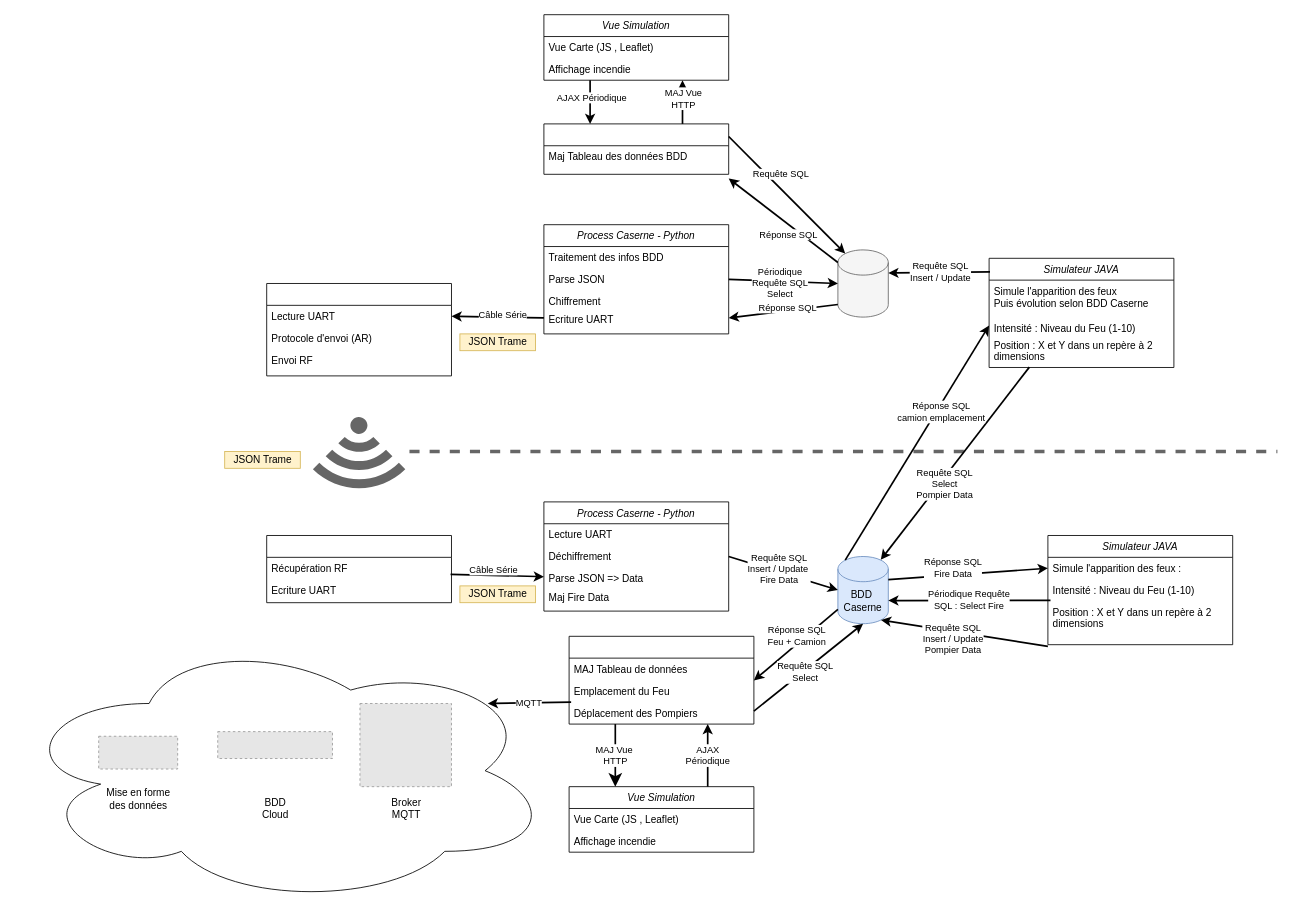
The diagram is 1294 pixels wide and 920 high, and some of its shapes have lost their labels. Grey dashed boxes stand in for pictures. The shapes that lost their labels are listed below. From the top down, each one's box as (x1, y1, x2, y2) in pixels, then its label:
(543, 123, 729, 174): WebServer Simu
(837, 249, 888, 317): BDD Simu
(266, 283, 452, 376): Microbit -Capteur
(266, 535, 452, 603): Microbit -DataCollector
(568, 635, 754, 724): WebServer Caserne
